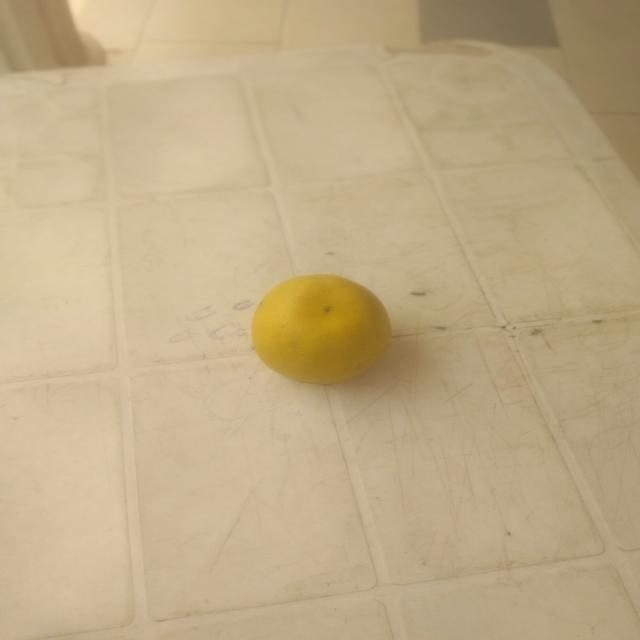agrume: (246, 273, 405, 392)
